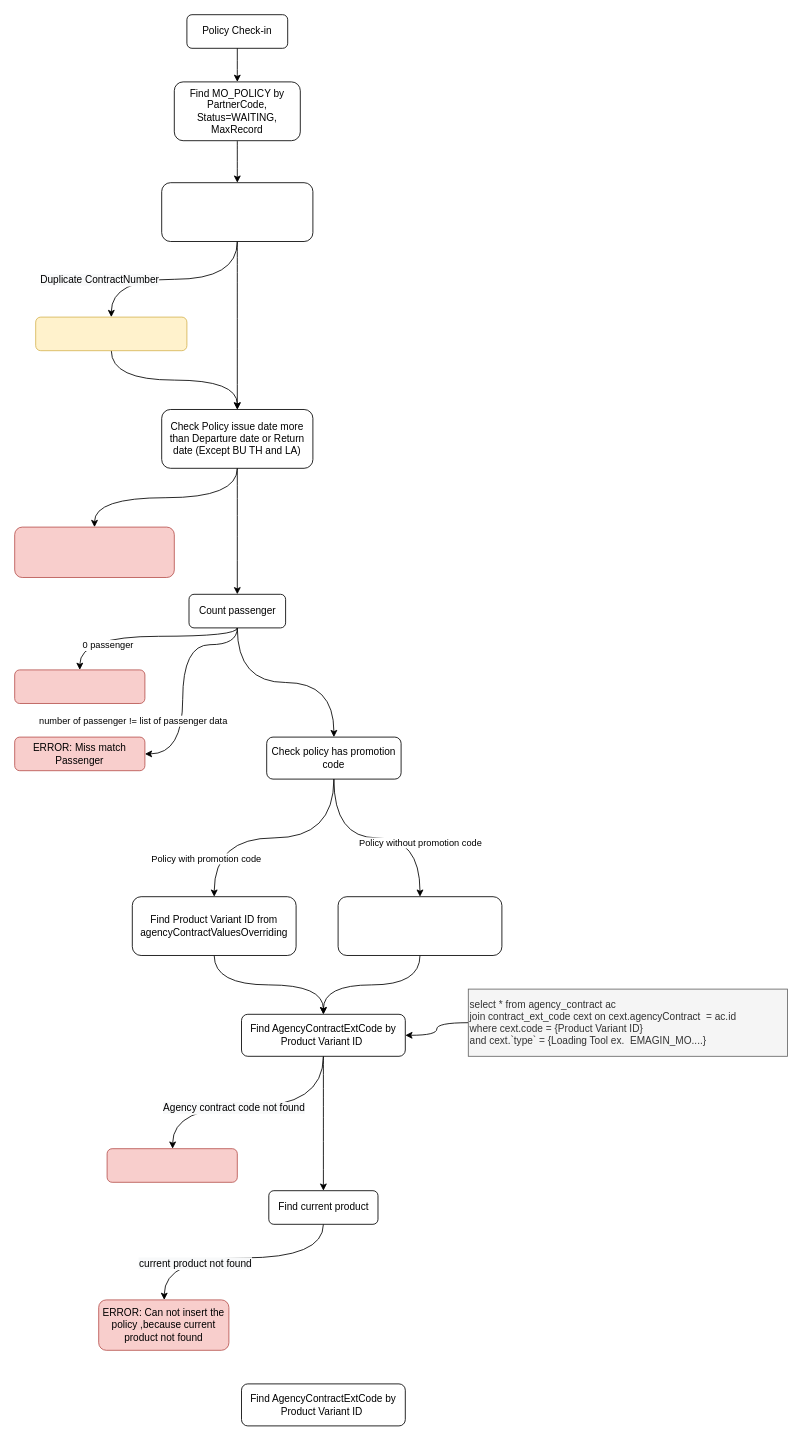
Image size: 802x1441. Some labels were removed from this diagram. The shapes that lost their labels are listed below. From the top down, each one's box as (x1, y1, x2, y2) in pixels, then its label:
(161, 182, 313, 242): Check duplicate policy in FN3 database (check by customerContractNumber)
(35, 316, 187, 351): WARNING: Duplicate policy
(14, 526, 174, 578): ERROR: Issued Date is prior than Departure Date or Return Date
(14, 669, 145, 704): ERROR: NULL Passenger
(337, 896, 502, 956): Product Variant ID = ProductVariantBUReference from emargin xml
(106, 1148, 237, 1182): ERROR: Agency contract code not found
